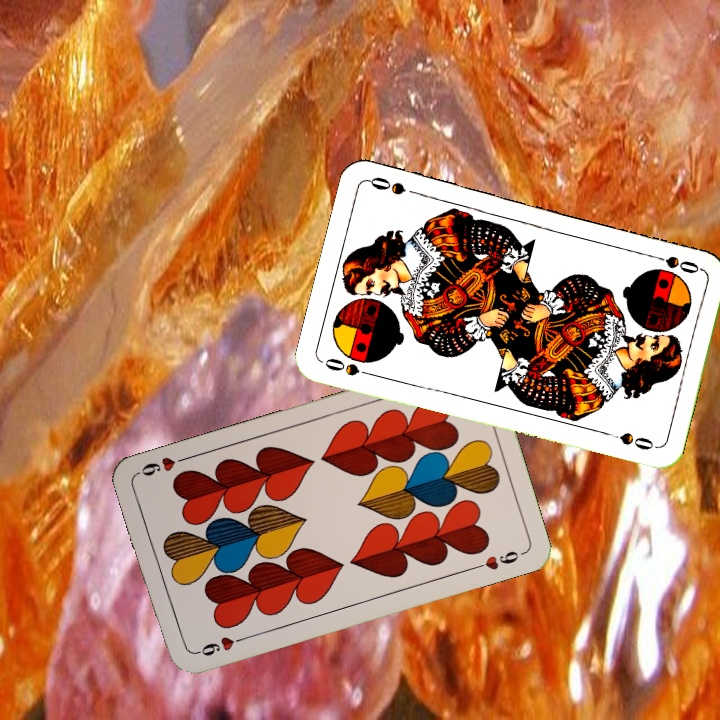H9: (191, 632, 249, 659)
SO: (645, 250, 703, 277), (318, 354, 377, 379)
